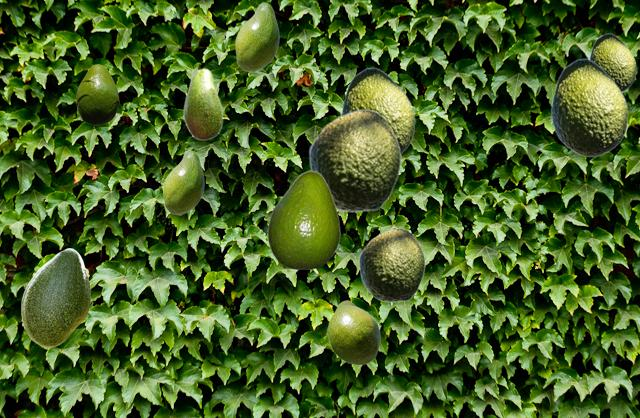avocado: (308, 109, 400, 211), (550, 58, 627, 156), (267, 170, 339, 268), (21, 248, 89, 346), (341, 67, 414, 154), (358, 228, 424, 301), (327, 300, 379, 364), (235, 2, 278, 71), (183, 67, 222, 140), (589, 33, 635, 91), (163, 150, 203, 214), (76, 64, 118, 124)
